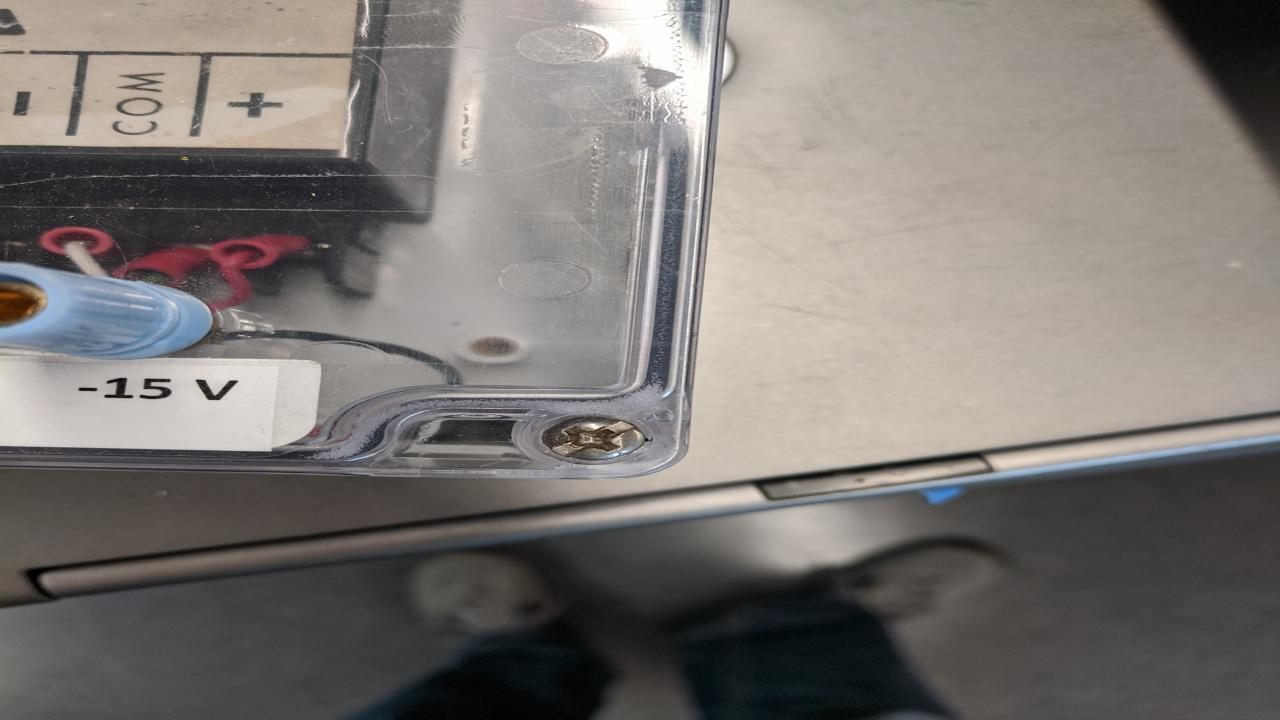CRS: (534, 415, 646, 465)
